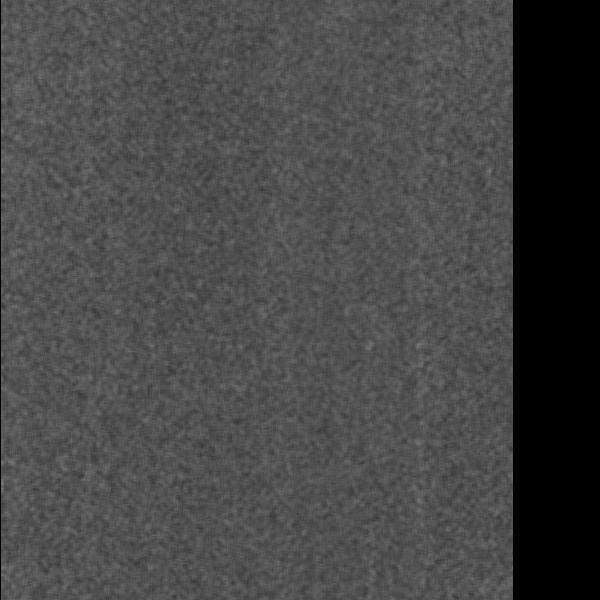spark: (144, 250, 183, 387), (466, 109, 510, 178), (441, 240, 493, 293), (181, 145, 222, 208), (444, 395, 501, 426), (181, 2, 212, 51), (117, 578, 172, 600), (10, 18, 41, 53), (131, 44, 163, 76)
